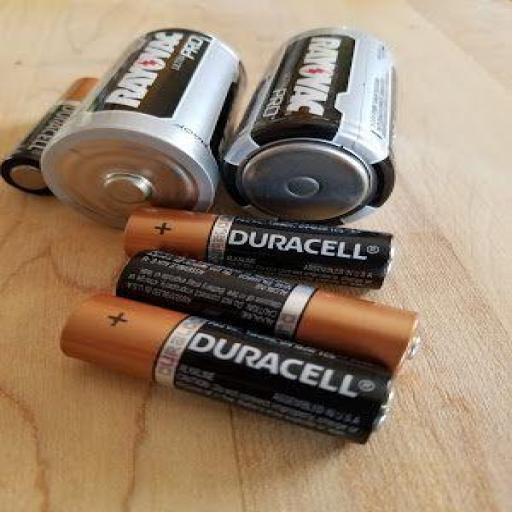battery: (61, 293, 399, 445), (44, 27, 246, 233), (116, 250, 424, 380), (224, 24, 400, 228), (121, 209, 399, 291), (0, 76, 104, 195)
